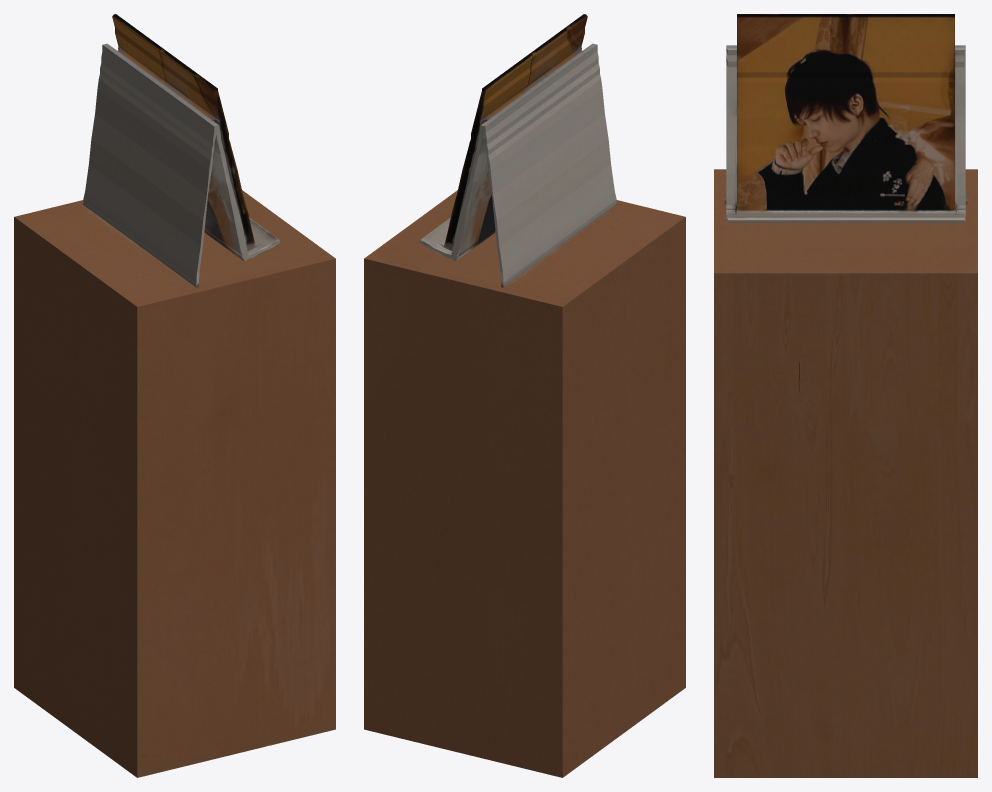
Rendered from album4.glb.
The picture shows the model from 3 angles, left to right: view 1: azimuth 30°, elevation 25°; view 2: azimuth 150°, elevation 25°; view 3: azimuth 270°, elevation 25°; orthographic projection. The views are drawn at different scales.
Parts seen in each view (by area): view 1: tripo_node_a03cb3d0-230c-4f1e-984c-a6b1490c5d29; view 2: tripo_node_a03cb3d0-230c-4f1e-984c-a6b1490c5d29; view 3: tripo_node_a03cb3d0-230c-4f1e-984c-a6b1490c5d29.
Part boxes in pixels (<box>): tripo_node_a03cb3d0-230c-4f1e-984c-a6b1490c5d29: <box>14,14,335,777</box>; tripo_node_a03cb3d0-230c-4f1e-984c-a6b1490c5d29: <box>364,14,685,777</box>; tripo_node_a03cb3d0-230c-4f1e-984c-a6b1490c5d29: <box>714,14,977,777</box>.
Size of the model in its own units: 0.315 by 0.9998 by 0.3385.
1 material, 1 textured.
